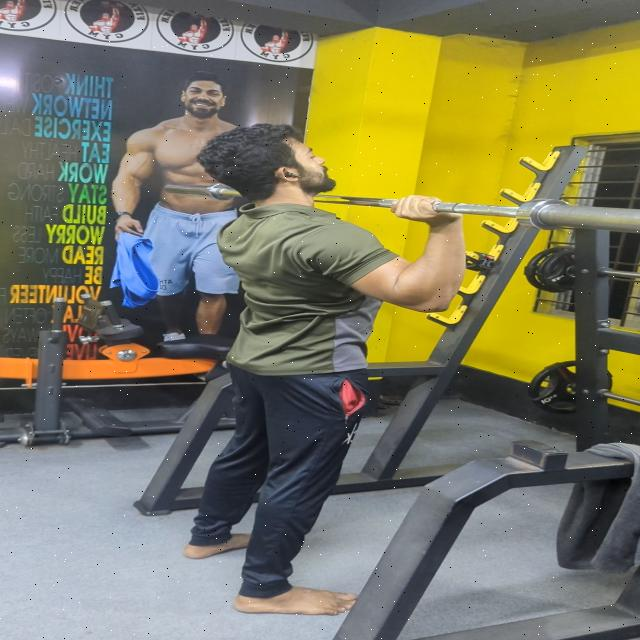Normal_OverheadPress: (157, 77, 453, 640)
